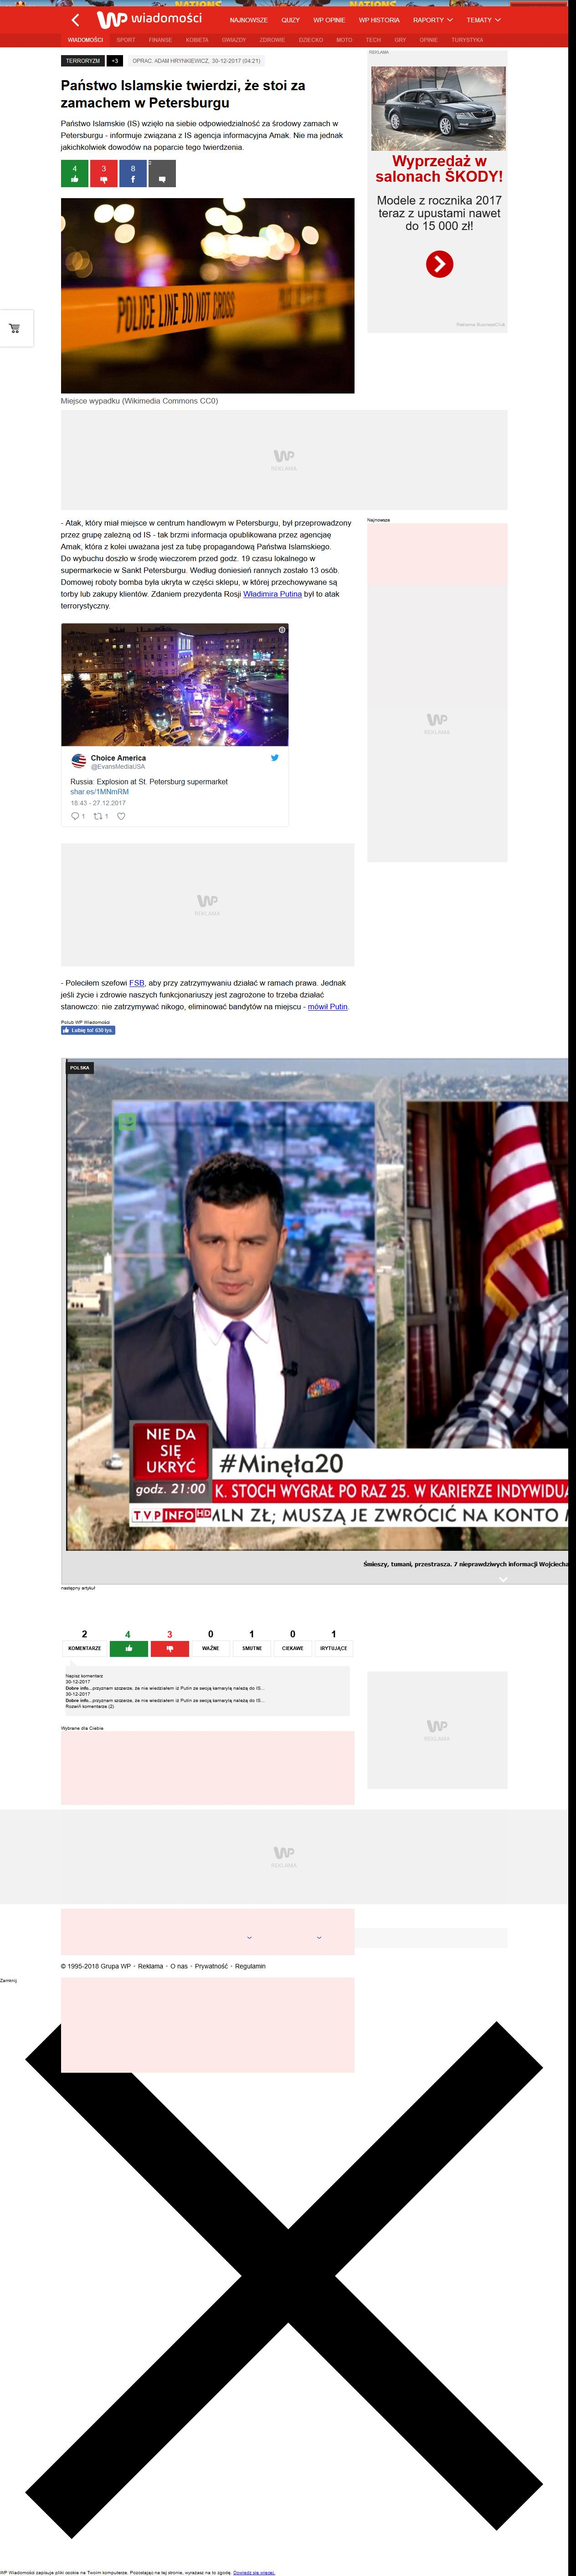title: (61, 79, 306, 110)
